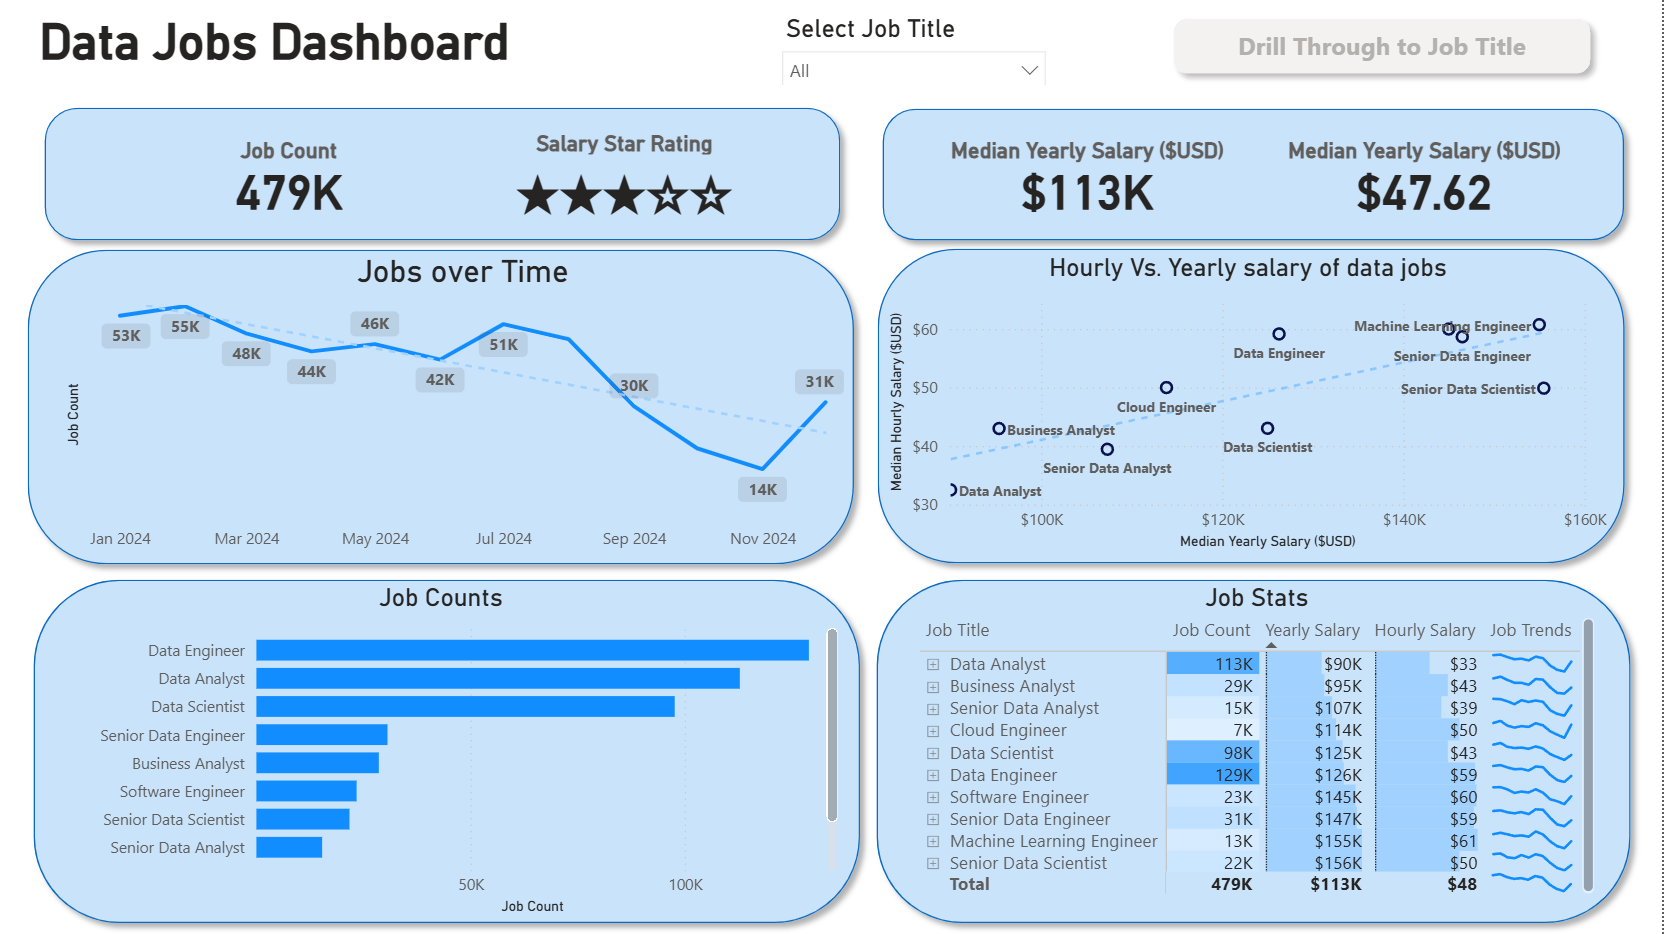

This screenshot's page, from the dashboard's own definition file:
{"tool":"powerbi","page":{"name":"Data Jobs Dashboard","canvas":[1280,720],"ordinal":0},"visuals":[{"type":"shape","box":[27.1,74.3,630,120],"z":0},{"type":"textbox","box":[27.1,5.7,565.7,68.6],"z":1000},{"type":"shape","box":[671.7,75,588.3,119.2],"z":2000},{"type":"slicer","fields":{"Values":["job_postings_flat.job_title_short"]},"box":[593.3,5.8,223.3,60],"z":3000},{"type":"shape","box":[13.6,183.6,653.6,260],"z":4000},{"type":"cardVisual","fields":{"Data":["CountNonNull(job_postings_flat.job_title_short)"]},"box":[62.1,74.3,323.6,125.7],"z":5000},{"type":"shape","box":[18.6,437.9,653.6,282.1],"z":6000},{"type":"cardVisual","fields":{"Data":["job_postings_flat.Salary Star Rating"]},"box":[323.6,74.3,316.4,125.7],"z":7000},{"type":"shape","box":[667.5,183.3,592.5,260],"z":8000},{"type":"cardVisual","fields":{"Data":["Median(job_postings_flat.salary_year_avg)"]},"box":[680.7,74.3,314.3,125.7],"z":9000},{"type":"shape","box":[667.1,437.9,597.9,282.1],"z":10000},{"type":"cardVisual","fields":{"Data":["Median(job_postings_flat.salary_hour_avg)"]},"box":[934.3,74.3,325.7,125.7],"z":11000},{"type":"lineChart","title":"Jobs over Time","fields":{"Y":["CountNonNull(job_postings_flat.job_title_short)"],"Category":["job_postings_flat.job_posted_date.Variation.Date Hierarchy.Year","job_postings_flat.job_posted_date.Variation.Date Hierarchy.Quarter","job_postings_flat.job_posted_date.Variation.Date Hierarchy.Month","job_postings_flat.job_posted_date.Variation.Date Hierarchy.Day"]},"box":[47.5,195,620,237.5],"z":12000},{"type":"barChart","title":"Job Counts","fields":{"Y":["CountNonNull(job_postings_flat.job_title_short)"],"Category":["job_postings_flat.job_title_short"]},"box":[30.7,449.3,620,259.3],"z":13000},{"type":"scatterChart","title":"Hourly Vs. Yearly salary of data jobs","fields":{"X":["Median(job_postings_flat.salary_year_avg)"],"Y":["Median(job_postings_flat.salary_hour_avg)"],"Series":["job_postings_flat.job_title_short"]},"box":[680.8,195,561.7,232.5],"z":14000},{"type":"pivotTable","title":"Job Stats","fields":{"Values":["CountNonNull(job_postings_flat.job_title_short)","Median(job_postings_flat.salary_year_avg)","Median(job_postings_flat.salary_hour_avg)","SparklineData(CountNonNull(job_postings_flat.job_title_short)_[job_postings_flat.job_posted_date.Variation.Date Hierarch"],"Rows":["job_postings_flat.job_title_short","job_postings_flat.job_posted_date.Variation.Date Hierarchy.Quarter"]},"box":[704.2,449.2,529.2,244.2],"z":15000},{"type":"actionButton","title":"Drill through","box":[895,5.8,338.3,60],"z":16000}]}

Visuals, with their boxes in screenshot pixels (x1, y1, x2, y2), scaled from the page's 1280x720 canvas onto the 1664x934 screenshot:
shape: (35,96,854,252)
textbox: (35,7,771,96)
shape: (873,97,1638,252)
slicer - job_postings_flat.job_title_short: (771,8,1062,85)
shape: (18,238,867,575)
cardVisual - CountNonNull(job_postings_flat.job_title_short): (81,96,501,259)
shape: (24,568,874,933)
cardVisual - job_postings_flat.Salary Star Rating: (421,96,832,259)
shape: (868,238,1638,575)
cardVisual - Median(job_postings_flat.salary_year_avg): (885,96,1294,259)
shape: (867,568,1644,933)
cardVisual - Median(job_postings_flat.salary_hour_avg): (1215,96,1638,259)
"Jobs over Time" lineChart: (62,253,868,561)
"Job Counts" barChart: (40,583,846,919)
"Hourly Vs. Yearly salary of data jobs" scatterChart: (885,253,1615,555)
"Job Stats" pivotTable: (915,583,1603,899)
"Drill through" actionButton: (1164,8,1603,85)
